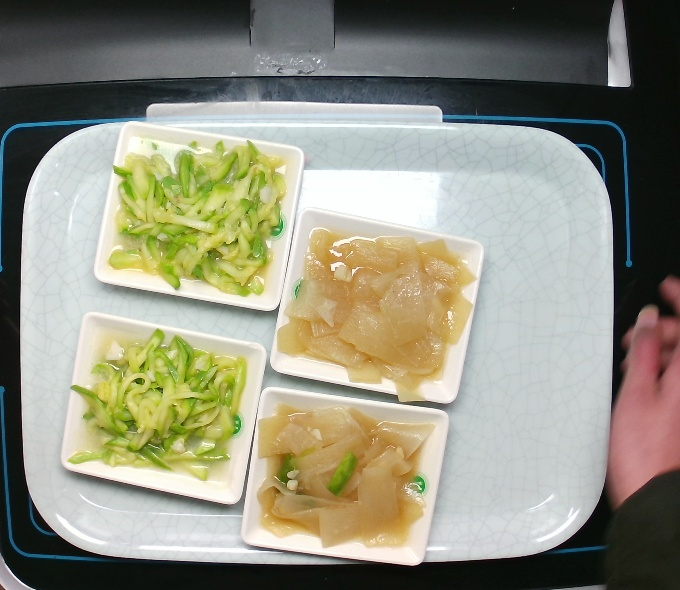wcq-LuoBo: (272, 222, 478, 407), (248, 401, 438, 555)
wcq-NenNanGua: (103, 134, 294, 301), (63, 322, 251, 487)
